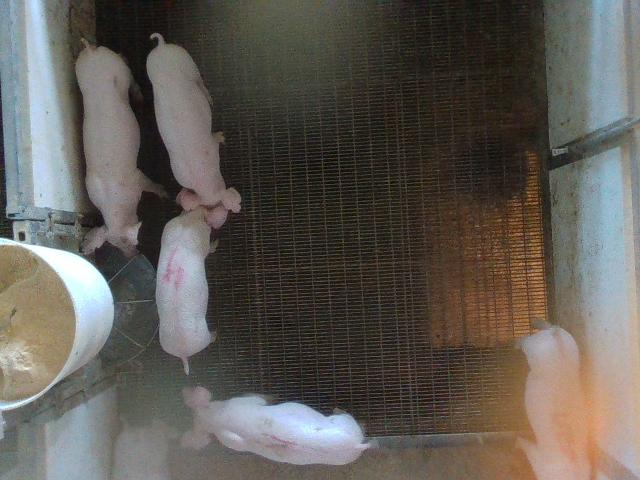pig-1: (181, 386, 370, 465)
pig-3: (518, 326, 590, 479)
pig-4: (155, 188, 229, 373)
